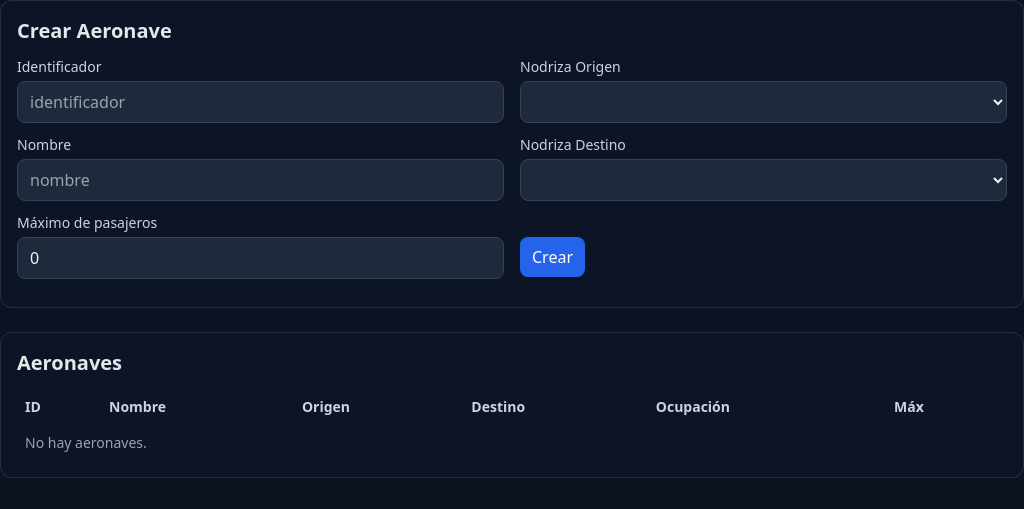
Scenario: AeronavesPage – ramas extra › POST 201 con input numérico vacío ⇒ backend recibe 0; muestra mensaje y listado vacío
# id/nombre, numérico vacío
Step 1. Type "A-Empty" into the field with placeholder "Identificador" → (260, 102), box [17,81,504,123]
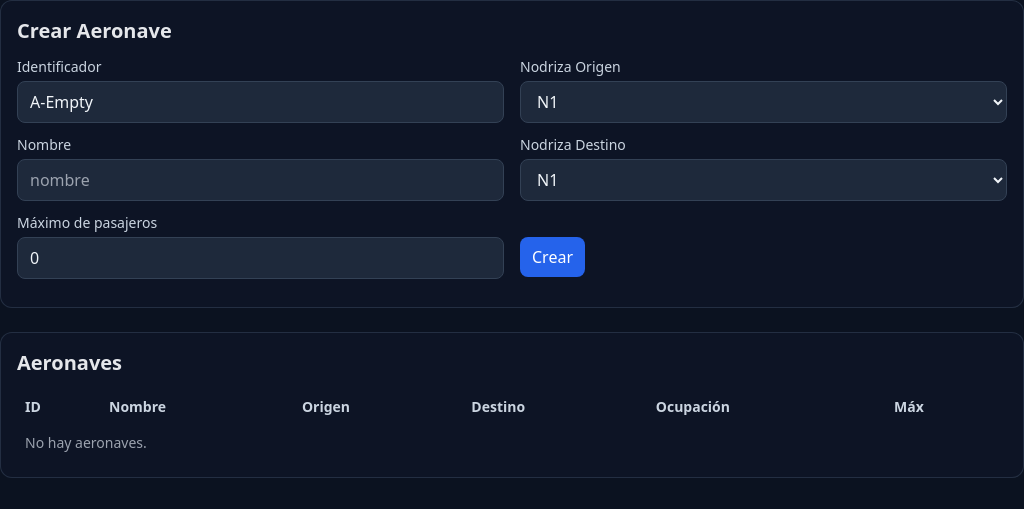
Step 2. Type "Vacio" into the field with placeholder "Nombre" → (260, 180), box [17,159,504,201]
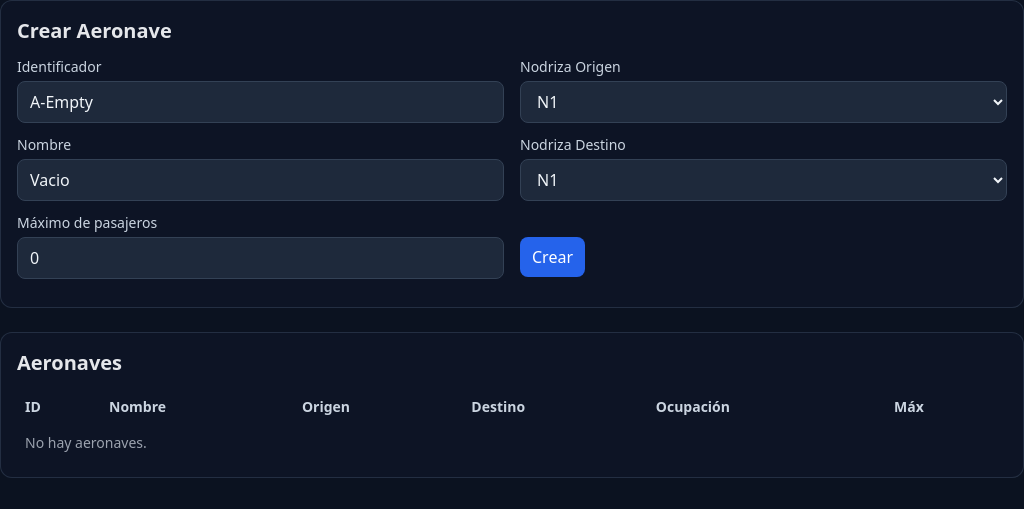
# Botón "Crear"
Step 3. Click the button "Crear" → (552, 257), box [520,237,585,277]
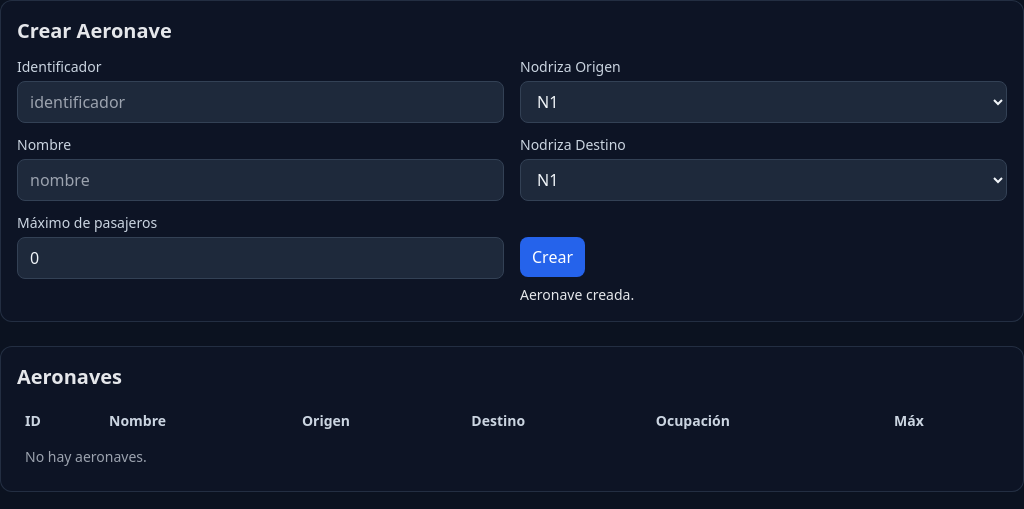
Expected: the text "No hay aeronaves." is shown, [17,439,1007,475]
Expected: the text "Aeronave creada." is shown, [520,285,634,304]
